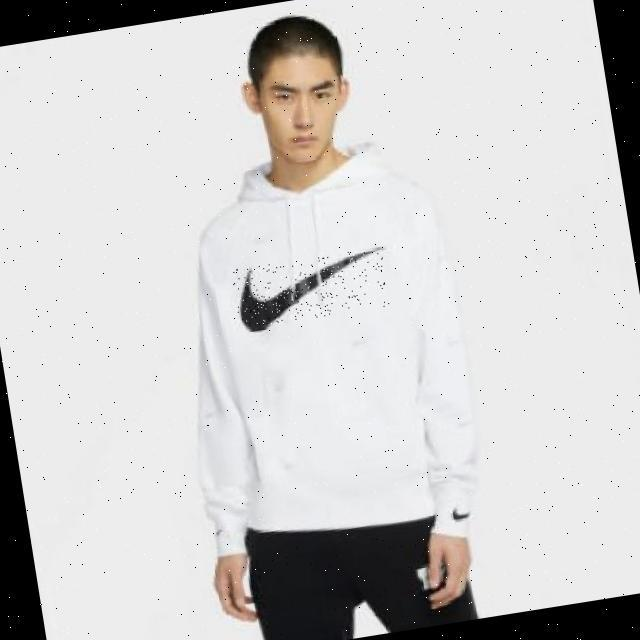Nike: (232, 247, 391, 330), (449, 504, 469, 521)
